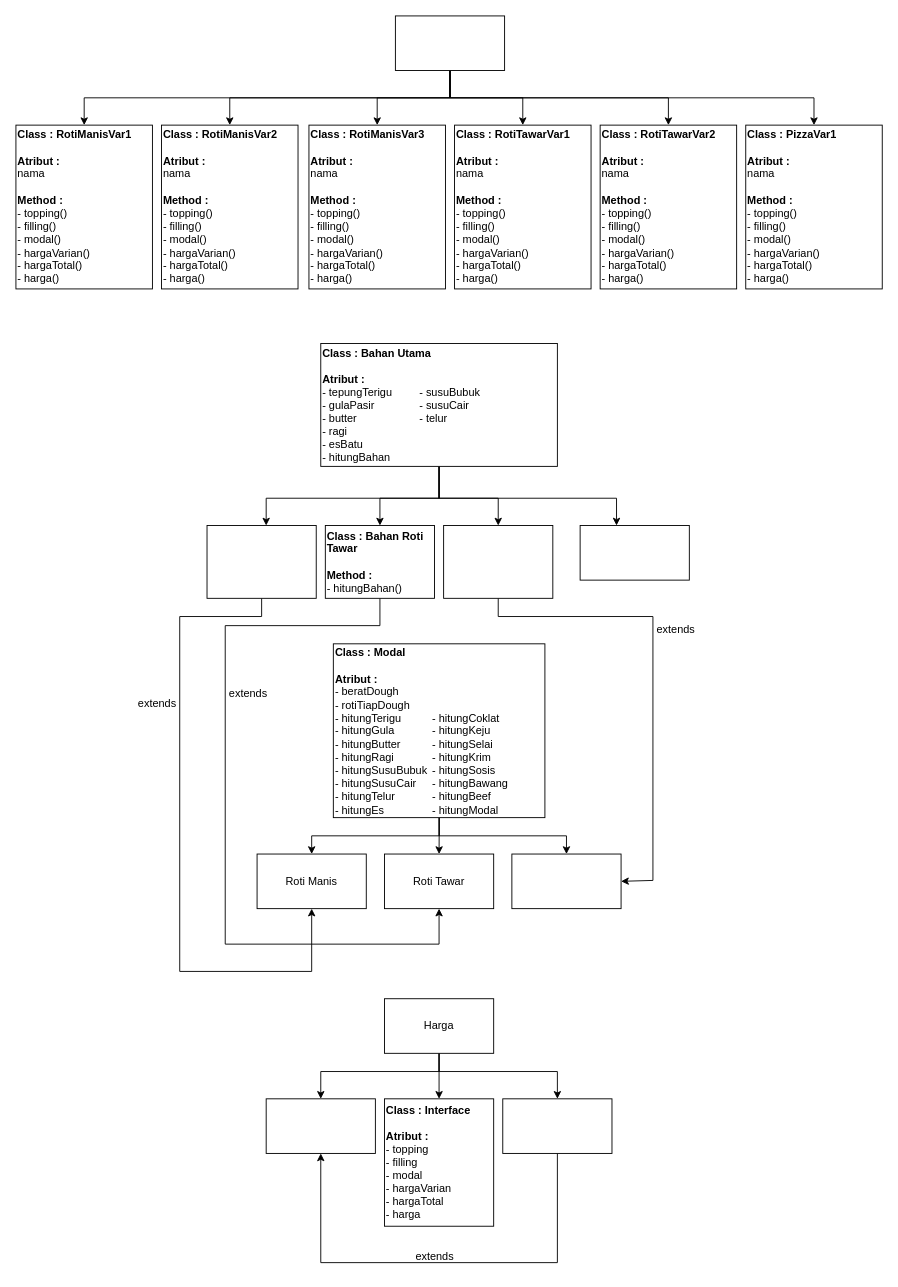
Image size: 898x1287. Some labels were removed from this diagram. The shapes that lost their labels are listed below. From the top down, each one's box as (x1, y1, x2, y2) in pixels, then its label:
(394, 15, 505, 71): Jual Roti
(206, 525, 316, 598): Class : Bahan Roti Manis Method : - hitungBahan()
(443, 525, 553, 598): Class : Bahan Pizza Method : - hitungBahan()
(579, 525, 689, 580): Variasi
(511, 853, 621, 909): Pizza
(265, 1098, 375, 1153): Harga Bahan
(502, 1098, 612, 1153): Berat Kemasan
